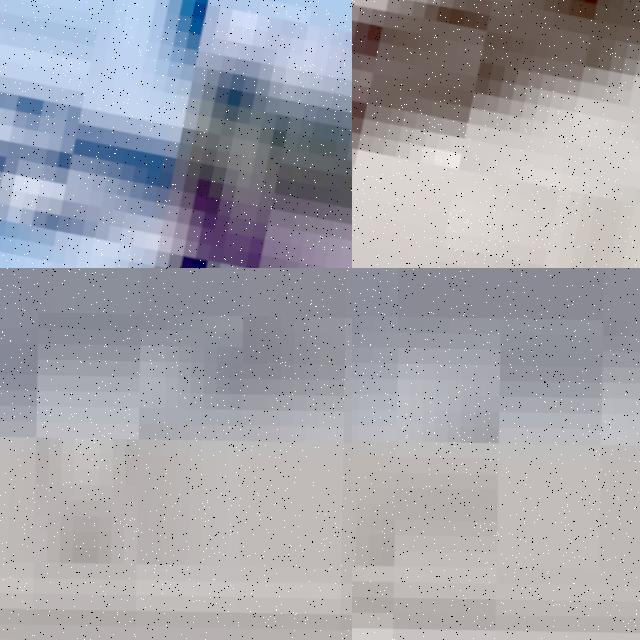drone: (0, 0, 352, 268), (352, 0, 640, 268)
